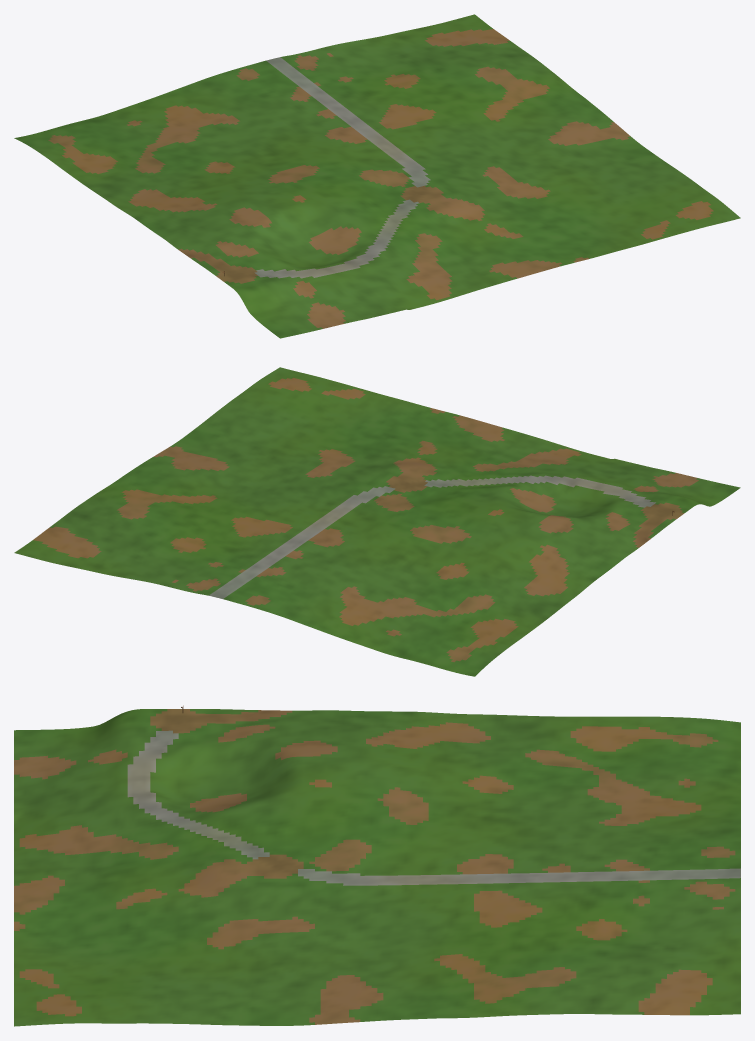
Rendered from chunk_3_6.glb.
3 renders of one model, top to bottom at view 1: azimuth 30°, elevation 25°; view 2: azimuth 150°, elevation 25°; view 3: azimuth 270°, elevation 25°, orthographic. The views are drawn at different scales.
Parts seen in each view (by area): view 1: Surface_Grass, Surface_Dirt, Surface_Gravel; view 2: Surface_Grass, Surface_Dirt, Surface_Gravel; view 3: Surface_Grass, Surface_Dirt, Surface_Gravel.
Part boxes in pixels (bbox=[...]): Surface_Grass: bbox=[14, 14, 740, 338]; Surface_Dirt: bbox=[48, 29, 713, 328]; Surface_Gravel: bbox=[254, 57, 430, 278]; Surface_Grass: bbox=[14, 367, 740, 676]; Surface_Dirt: bbox=[33, 378, 698, 662]; Surface_Gravel: bbox=[209, 475, 655, 598]; Surface_Grass: bbox=[14, 709, 740, 1026]; Surface_Dirt: bbox=[14, 709, 735, 1024]; Surface_Gravel: bbox=[127, 730, 740, 885].
Bounding box in the file's own units: 256 × 15.07 × 256.
